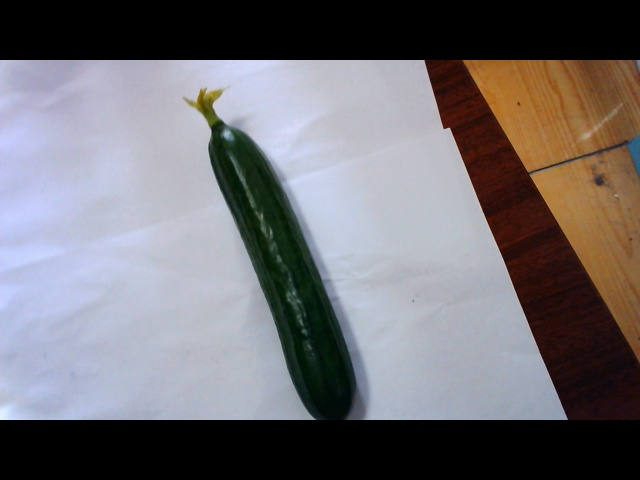cucumber: (185, 88, 385, 418)
